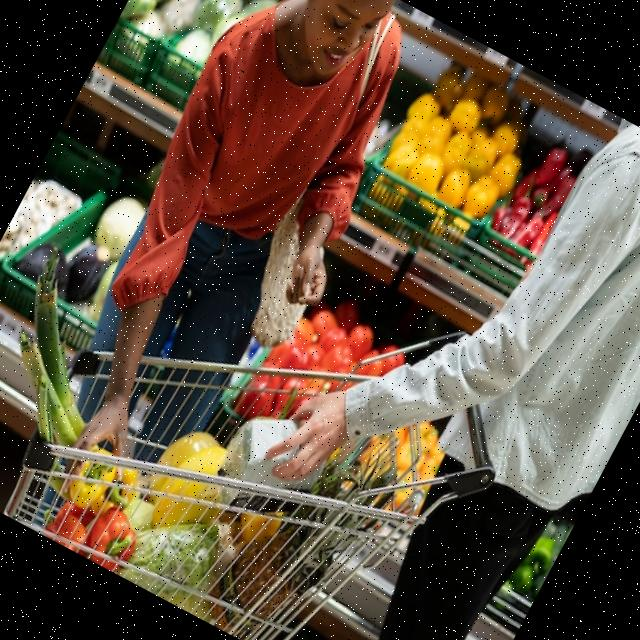Person: (184, 45, 640, 640), (17, 0, 461, 513)
